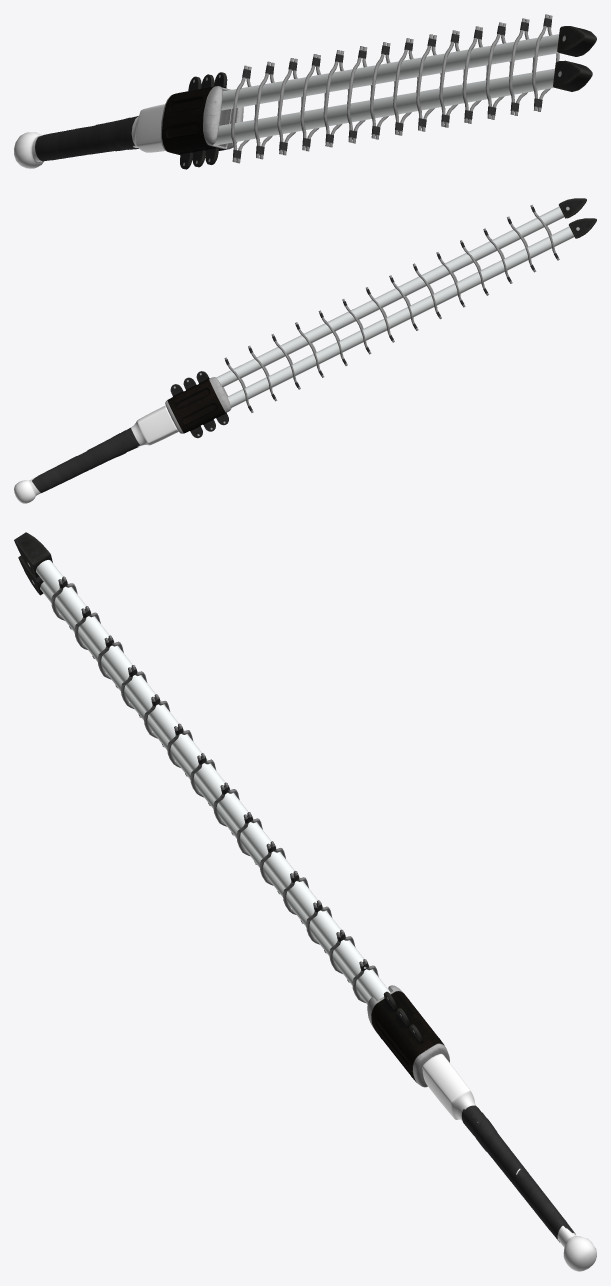
File: electric_amp_sword_-_code_name_slipstream.glb
The picture shows the model from 3 angles, top to bottom: view 1: azimuth 90°, elevation 25°; view 2: azimuth 150°, elevation 25°; view 3: azimuth 270°, elevation 25°; orthographic projection. The views are drawn at different scales.
Visible parts, largest first — view 1: SM_Electric_Sword; view 2: SM_Electric_Sword; view 3: SM_Electric_Sword.
Boxes of the visible parts, <box> form: SM_Electric_Sword: <box>14,14,596,169</box>; SM_Electric_Sword: <box>14,198,596,503</box>; SM_Electric_Sword: <box>14,532,596,1271</box>.
Bounding box in the file's own units: 1.34 × 0.8526 × 1.03.
2 materials, 2 textured.
